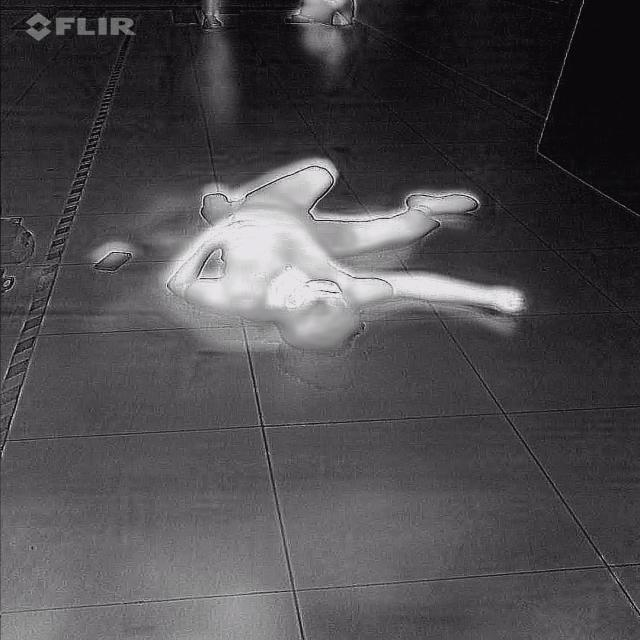Victim: (154, 156, 549, 361), (282, 0, 365, 26)
